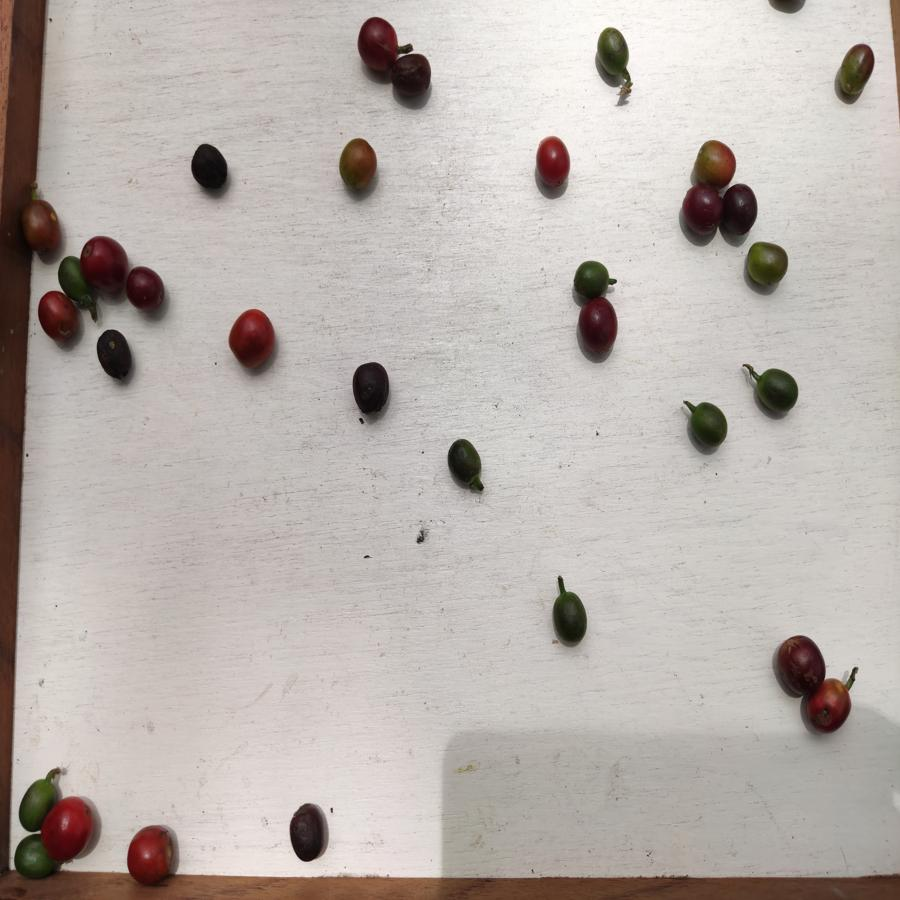Inmaduro: (549, 588, 590, 649), (753, 367, 802, 417), (443, 436, 484, 488), (688, 399, 729, 450), (597, 24, 631, 83), (10, 832, 46, 879), (570, 262, 616, 297), (18, 777, 48, 827), (57, 257, 83, 295)
Maduro: (121, 822, 179, 886), (228, 308, 279, 377), (44, 796, 95, 864), (79, 235, 128, 296), (35, 288, 83, 343), (534, 135, 573, 190)
Pinton: (809, 677, 853, 740), (338, 138, 381, 195), (835, 41, 876, 98), (745, 240, 789, 293), (23, 196, 61, 254), (692, 139, 738, 186)
Sobremaduro: (776, 634, 825, 695), (348, 358, 392, 418), (286, 802, 329, 863), (355, 15, 400, 73), (578, 298, 620, 356), (680, 186, 722, 239), (188, 143, 231, 194), (95, 327, 135, 381), (124, 263, 167, 313), (390, 50, 433, 100), (723, 184, 757, 238)
